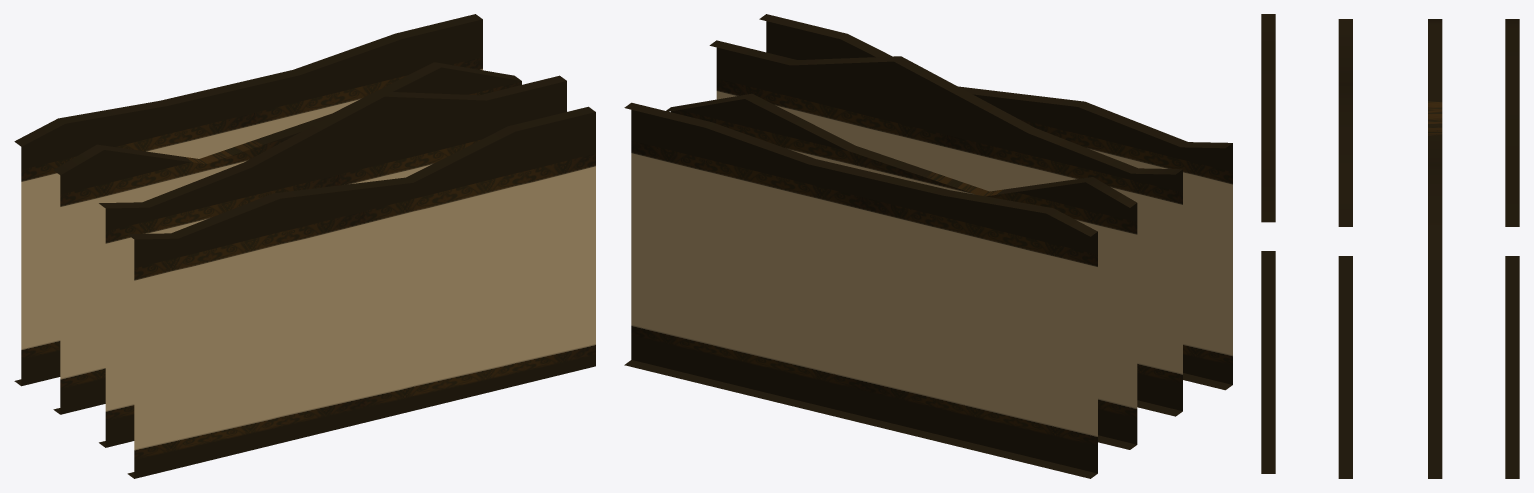
The model's file is murs.fbx.
3 views of the same model, side by side, from view 1: azimuth 30°, elevation 25°; view 2: azimuth 150°, elevation 25°; view 3: azimuth 270°, elevation 25° (orthographic). The views are drawn at different scales.
Parts seen in each view (by area): view 1: polySurface1; view 2: polySurface1; view 3: polySurface1.
Boxes of the visible parts, x1,y1,x2,y2 form: polySurface1: (14, 14, 595, 478); polySurface1: (624, 14, 1232, 478); polySurface1: (1261, 14, 1519, 478).
Bounding box in the file's own units: 753 × 432 × 361.
